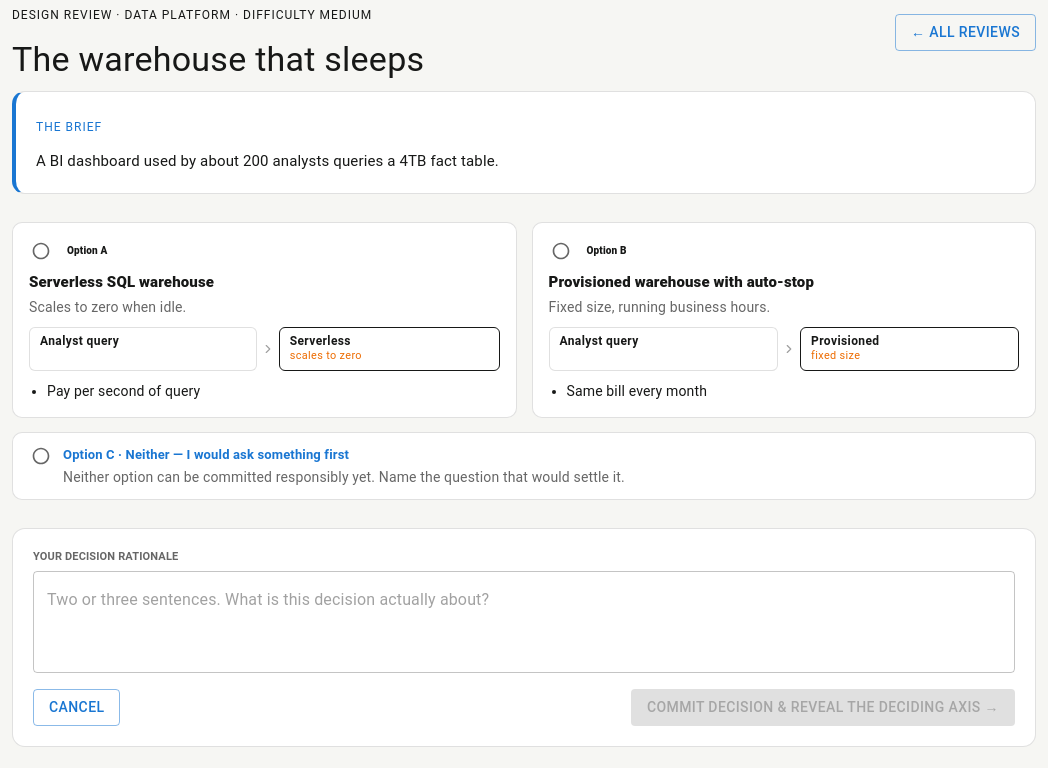
Scenario: DesignReviewPage › will not accept a choice with no reasoning
The width and height of the screenshot is (1048, 768).
Click the heading "Serverless SQL warehouse". click: {"x": 122, "y": 282}
box: x1=29 y1=273 x2=214 y2=291
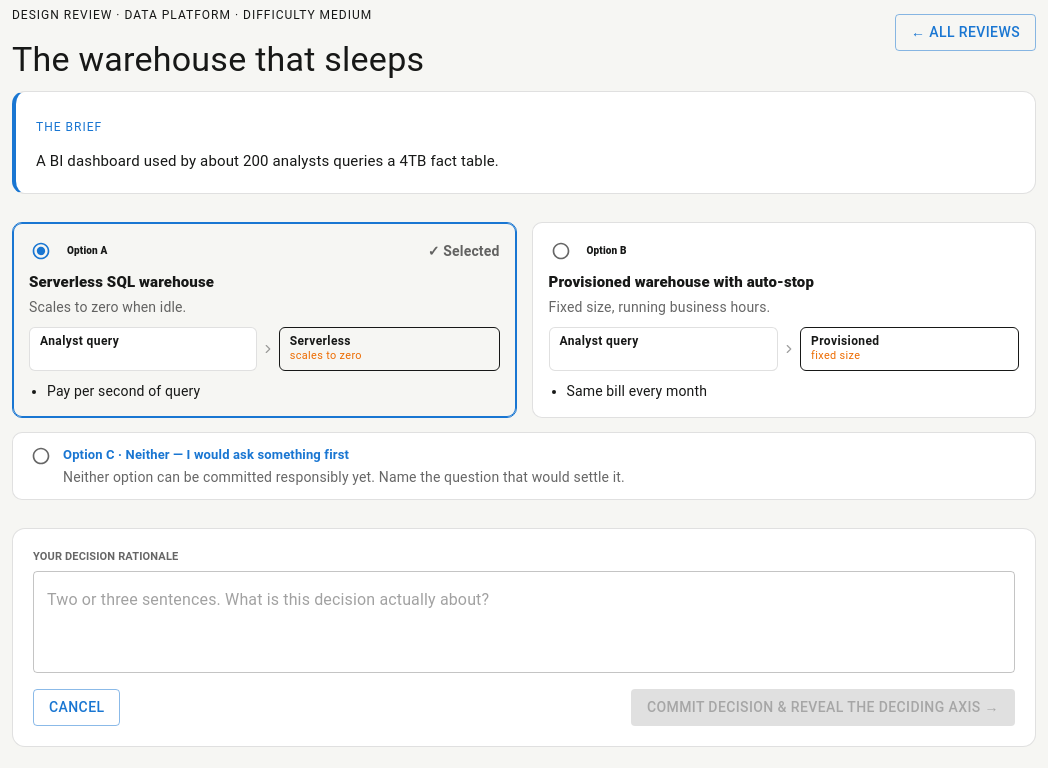
Expected: the button "Commit decision & reveal the deciding axis →" is disabled, x1=631 y1=689 x2=1015 y2=726
Type "Duty cycle decides it." into the text box with placeholder "Two or three sentences". click: {"x": 524, "y": 622}
box: x1=47 y1=588 x2=1001 y2=657
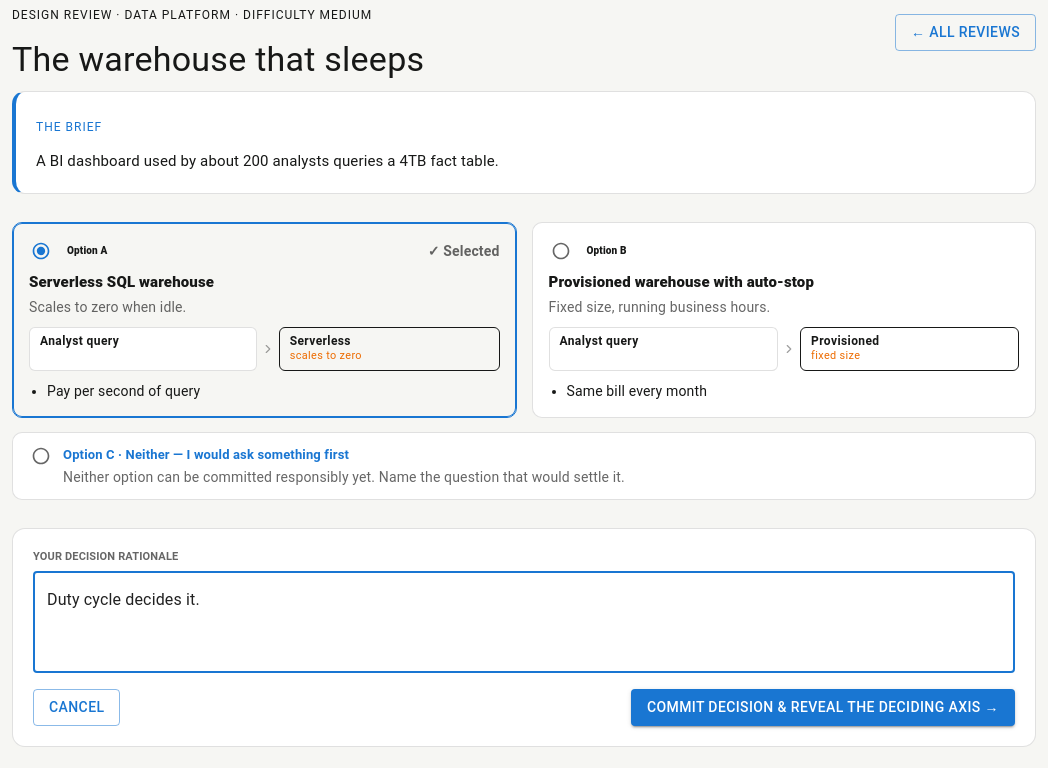
Now the button "Commit decision & reveal the deciding axis →" is enabled, box x1=631 y1=689 x2=1015 y2=726
